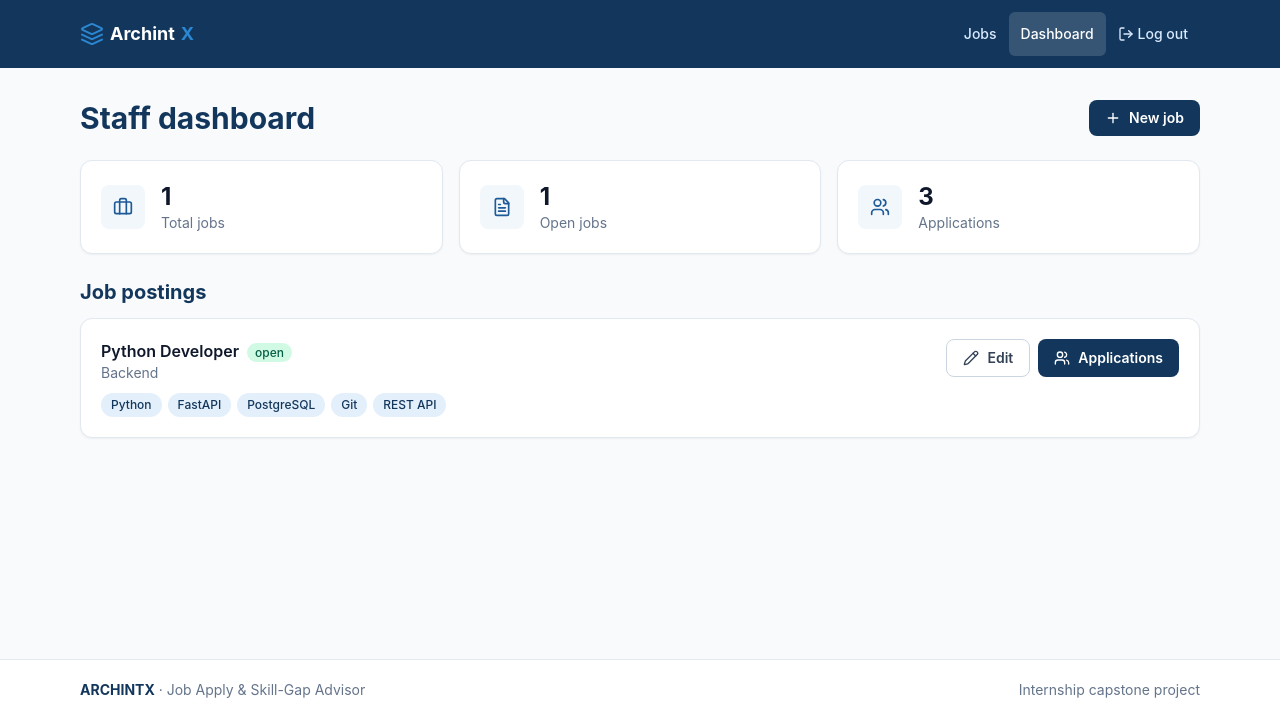
Test: job create / edit › shows server validation errors
The width and height of the screenshot is (1280, 720).
Click the button with aria-label "edit python developer": point(988, 358) [946,339,1030,377]
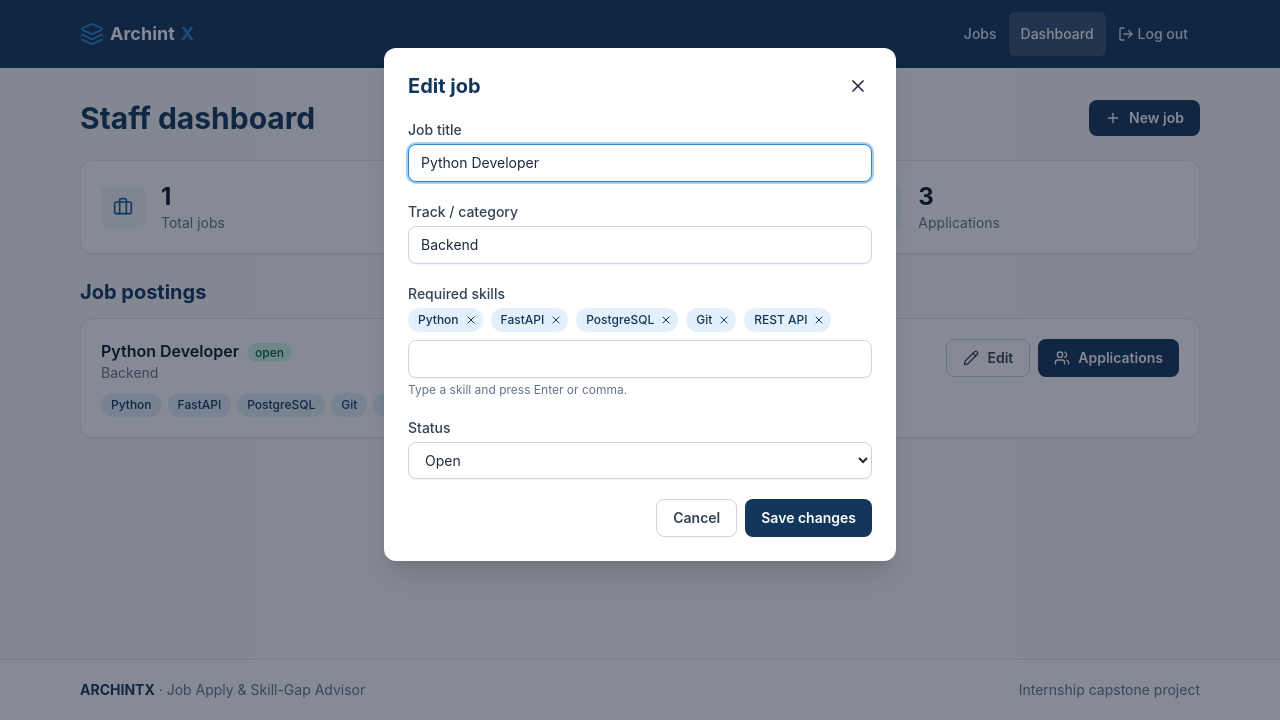
Click the button "Save changes": point(809, 518) [745,499,872,537]
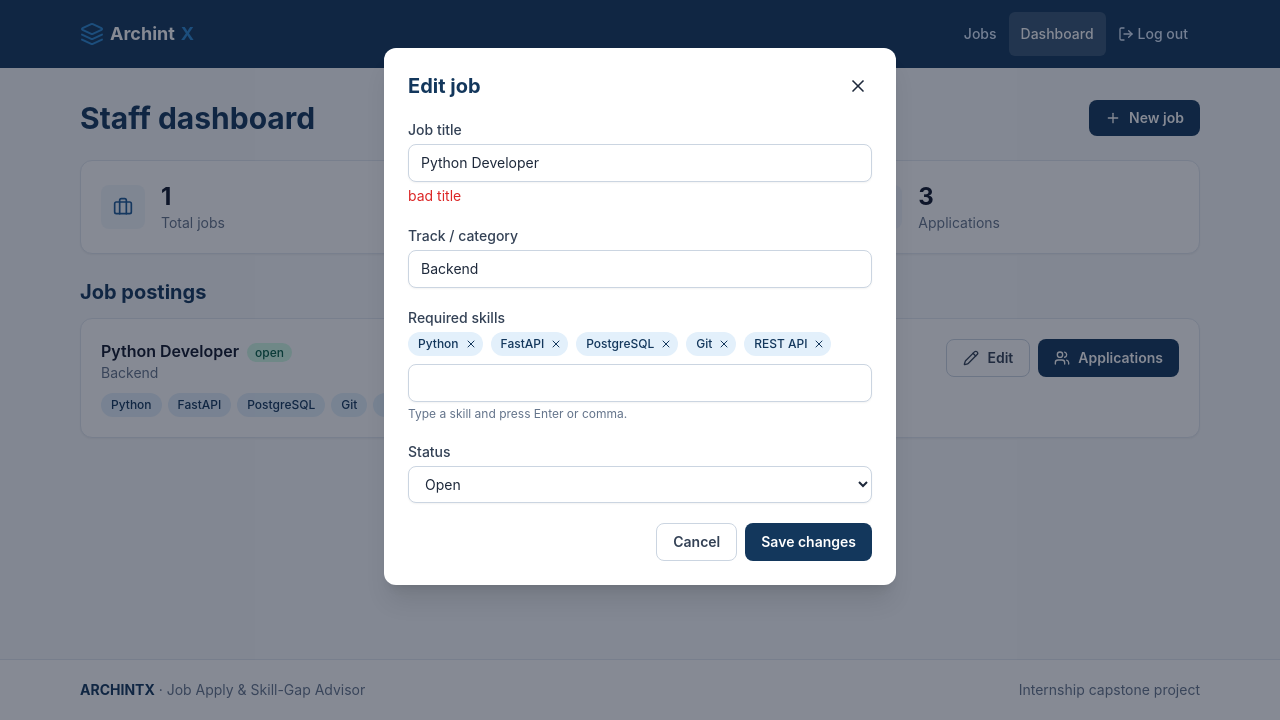
expect the text "bad title" is shown: met, box [408,187,461,204]
